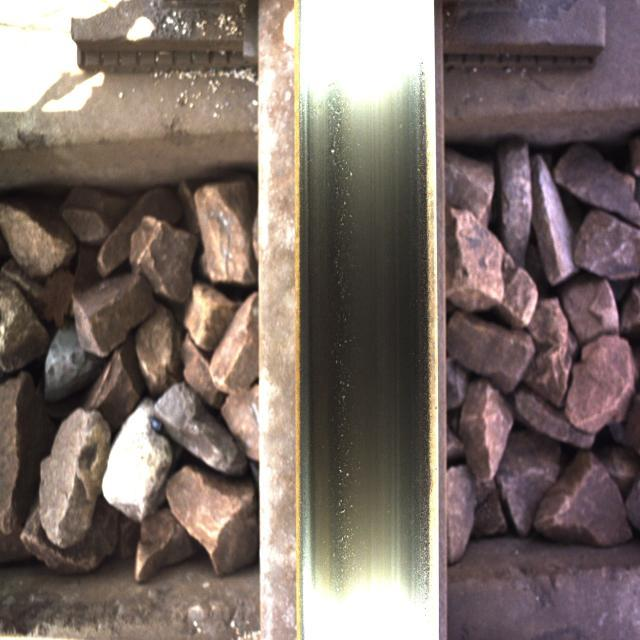break: (315, 67, 413, 575)
